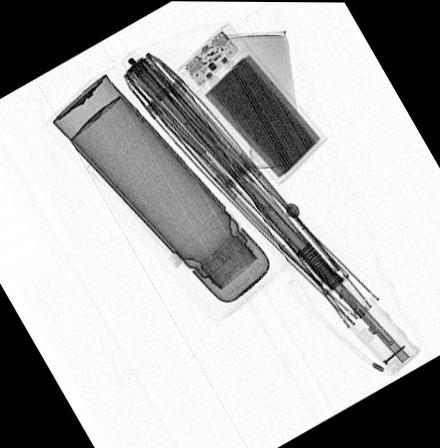Powerbank: (173, 22, 328, 184)
